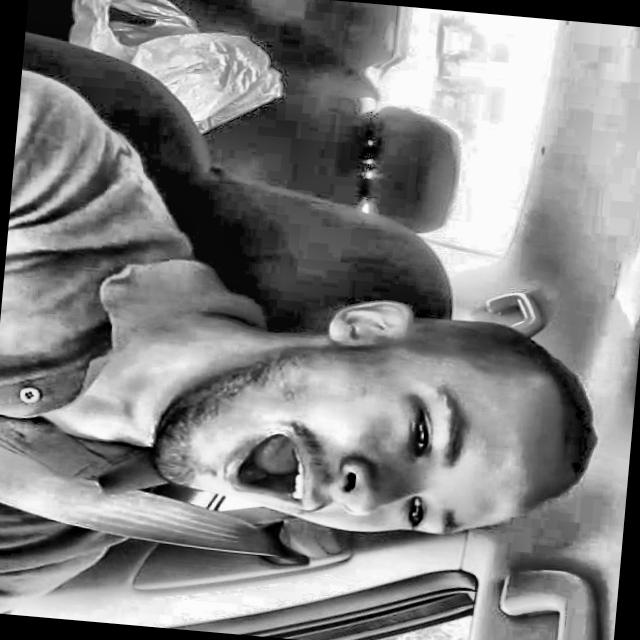open_eyes: (392, 391, 440, 466), (394, 488, 443, 551)
open_mouth: (209, 409, 322, 525)
